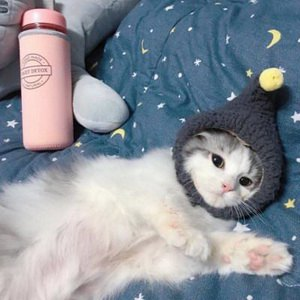cat: (170, 115, 278, 227)
